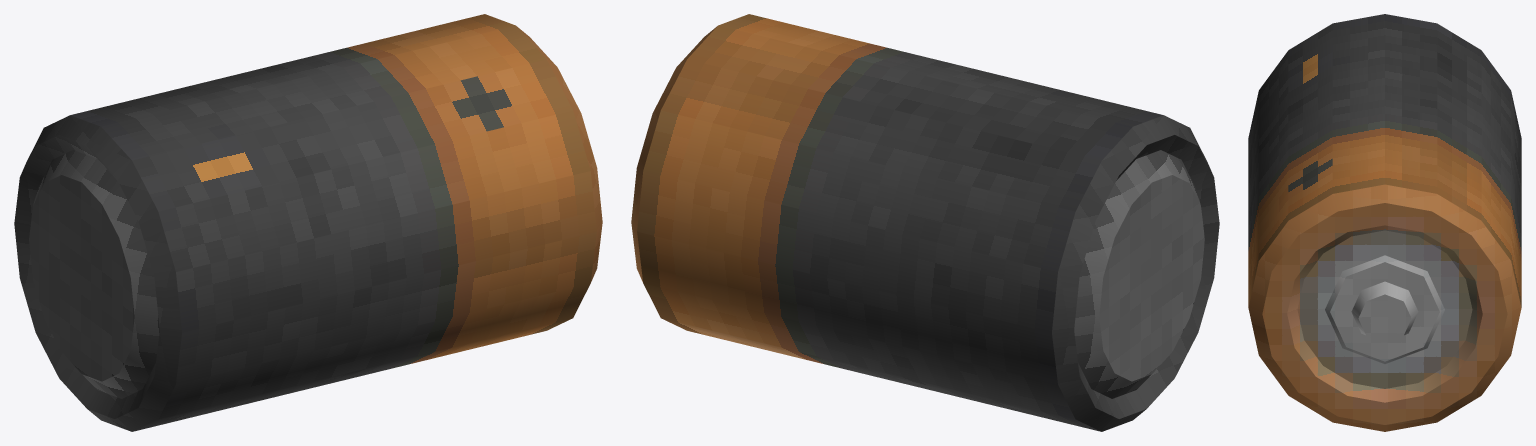
Rendered from battery_mp_2.glb.
3 renders of one model, left to right at view 1: azimuth 30°, elevation 25°; view 2: azimuth 150°, elevation 25°; view 3: azimuth 270°, elevation 25°, orthographic. The views are drawn at different scales.
Parts seen in each view (by area): view 1: battery_mp_2; view 2: battery_mp_2; view 3: battery_mp_2.
Boxes of the visible parts, box(x1,y1,x2,y2) form: battery_mp_2: box(14, 14, 602, 431); battery_mp_2: box(631, 14, 1219, 431); battery_mp_2: box(1248, 14, 1521, 431).
Bounding box in the file's own units: 0.0883 × 0.054 × 0.054.
Materials: 1 (1 with a texture image).
